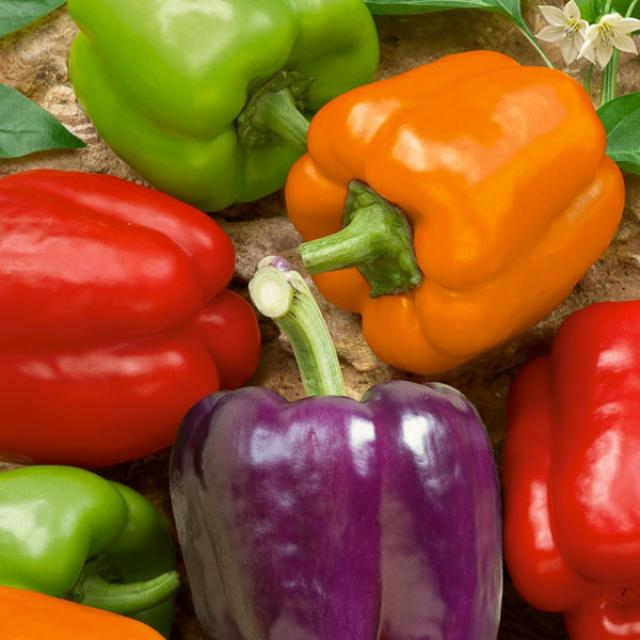bell pepper: (308, 64, 616, 337), (183, 402, 491, 640), (1, 173, 241, 399), (510, 332, 640, 638), (65, 0, 308, 157)
